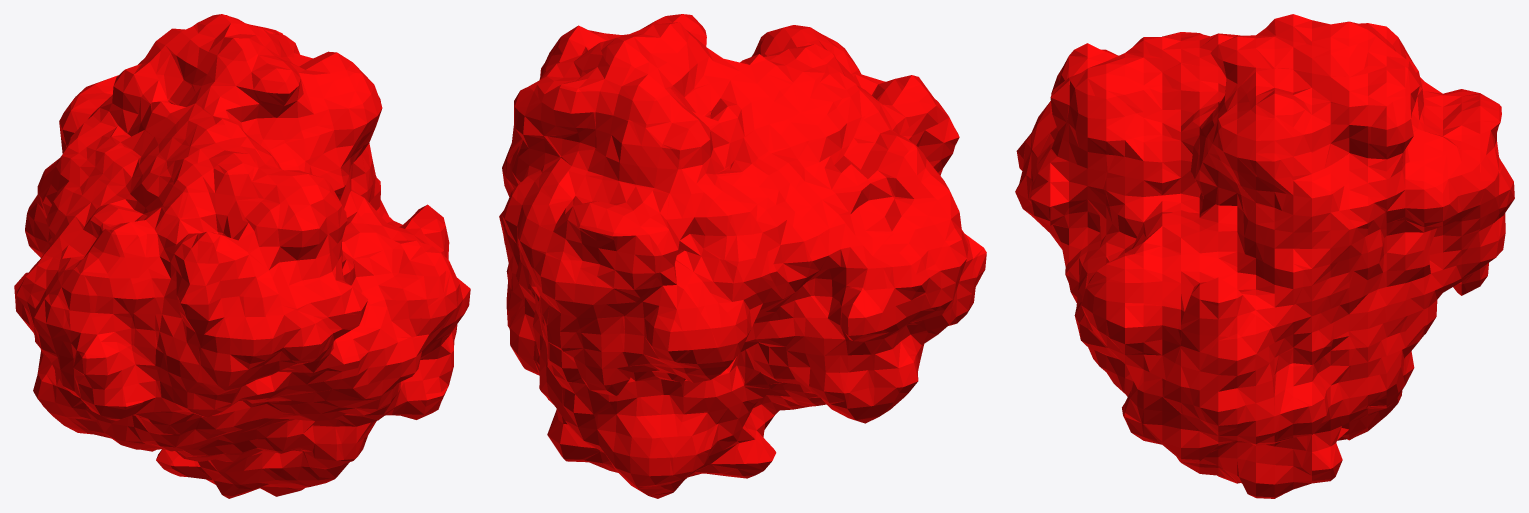
File: fucI_coarse.dae
The picture shows the model from 3 angles, left to right: view 1: azimuth 30°, elevation 25°; view 2: azimuth 150°, elevation 25°; view 3: azimuth 270°, elevation 25°; orthographic projection. The views are drawn at different scales.
Parts seen in each view (by area): view 1: fucI; view 2: fucI; view 3: fucI.
Boxes of the visible parts, x1=… form: fucI: x1=14, y1=14, x2=470, y2=498; fucI: x1=499, y1=14, x2=986, y2=498; fucI: x1=1015, y1=14, x2=1514, y2=498.
Size of the model in its own units: 129 by 129 by 128.
